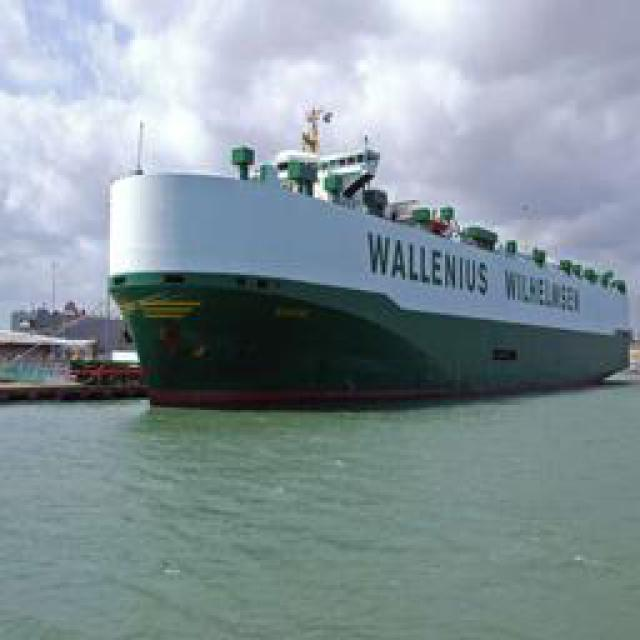Ship: (119, 131, 632, 406)
